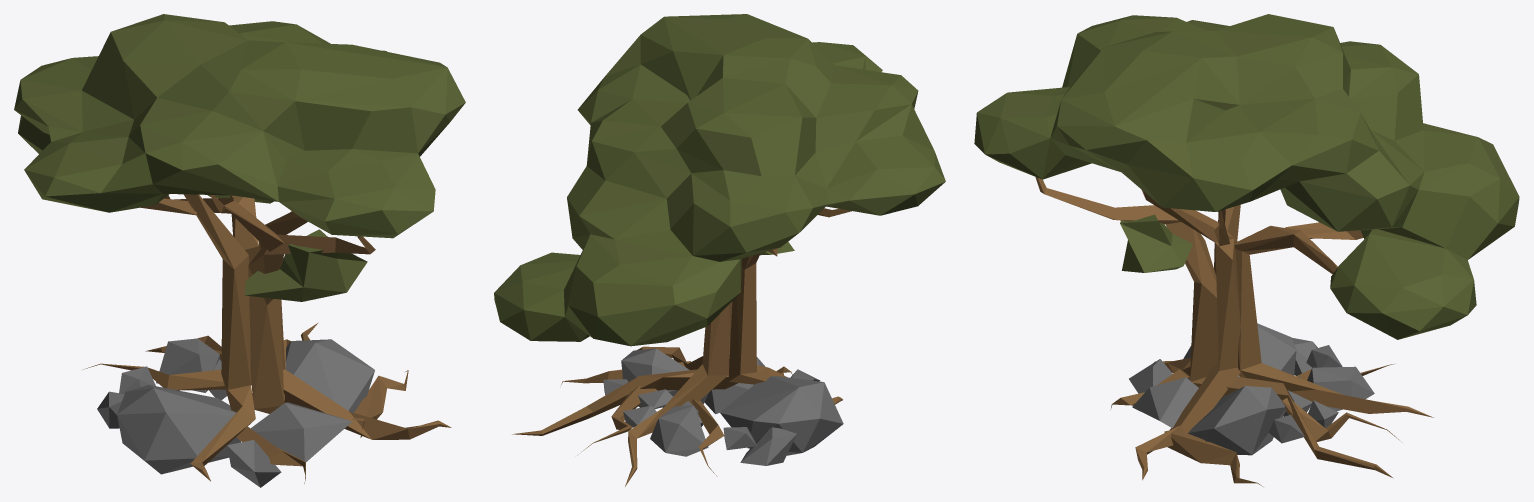
Rendered from boom-super.glb.
3 views of the same model, side by side, from view 1: azimuth 30°, elevation 25°; view 2: azimuth 150°, elevation 25°; view 3: azimuth 270°, elevation 25° (orthographic). The views are drawn at different scales.
Parts seen in each view (by area): view 1: boom-super; view 2: boom-super; view 3: boom-super.
Part boxes in pixels (x1,y1,x2,y2): boom-super: (14,14,465,487); boom-super: (494,14,945,486); boom-super: (974,14,1519,486).
Size of the model in its own units: 4.7 by 4.63 by 6.02.
